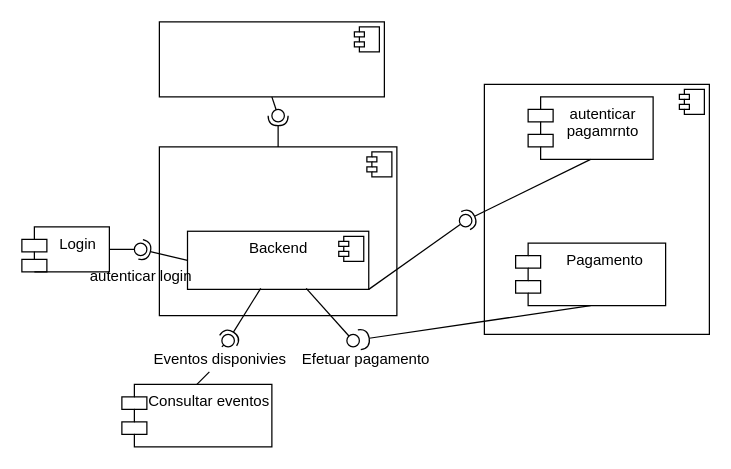
The diagram is 731 pixels wide and 469 high, and some of its shapes have lost their labels. The shapes that lost their labels are listed below. From the top down, each one's box as (x1, y1, x2, y2) in pixels, then its label:
(158, 21, 384, 97): Usuario
(158, 146, 397, 316): Servidor Web
